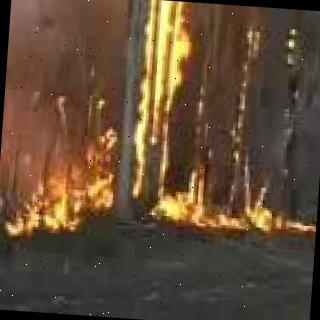fire: (123, 0, 218, 228), (30, 78, 122, 234), (206, 212, 308, 242)
